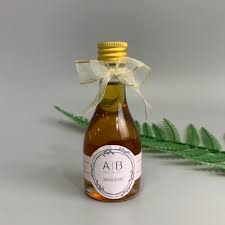glass_bottle: (72, 33, 156, 209)
